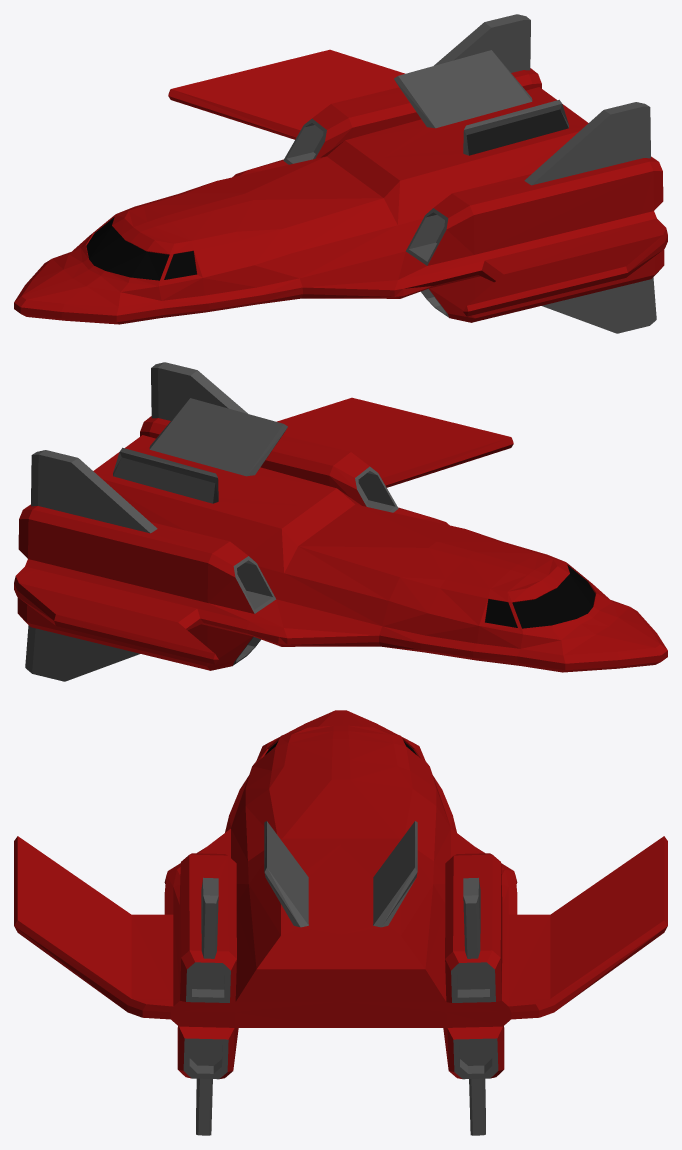
File: EnemyRedModel.FBX
The picture shows the model from 3 angles, top to bottom: view 1: azimuth 30°, elevation 25°; view 2: azimuth 150°, elevation 25°; view 3: azimuth 270°, elevation 25°; orthographic projection. The views are drawn at different scales.
Visible parts, largest first — view 1: Ship Short; view 2: Ship Short; view 3: Ship Short.
Part boxes in pixels (x1,y1,x2,y2): Ship Short: [14, 14, 667, 333]; Ship Short: [14, 362, 667, 681]; Ship Short: [14, 710, 667, 1135].
Size of the model in its own units: 197 by 71.58 by 178.
